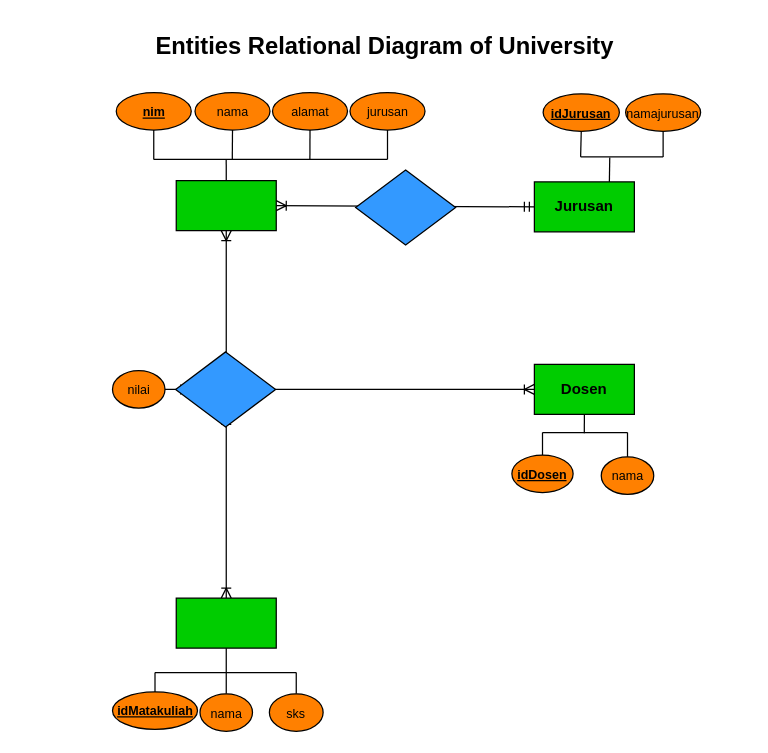
This 768x753 diagram has some shape labels left out. Each missing label, with the centre of its shape:
Kontrak: [225,389]
Mahasiswa: [225,205]
Matakuliah: [225,622]
Terdaftar: [405,207]
